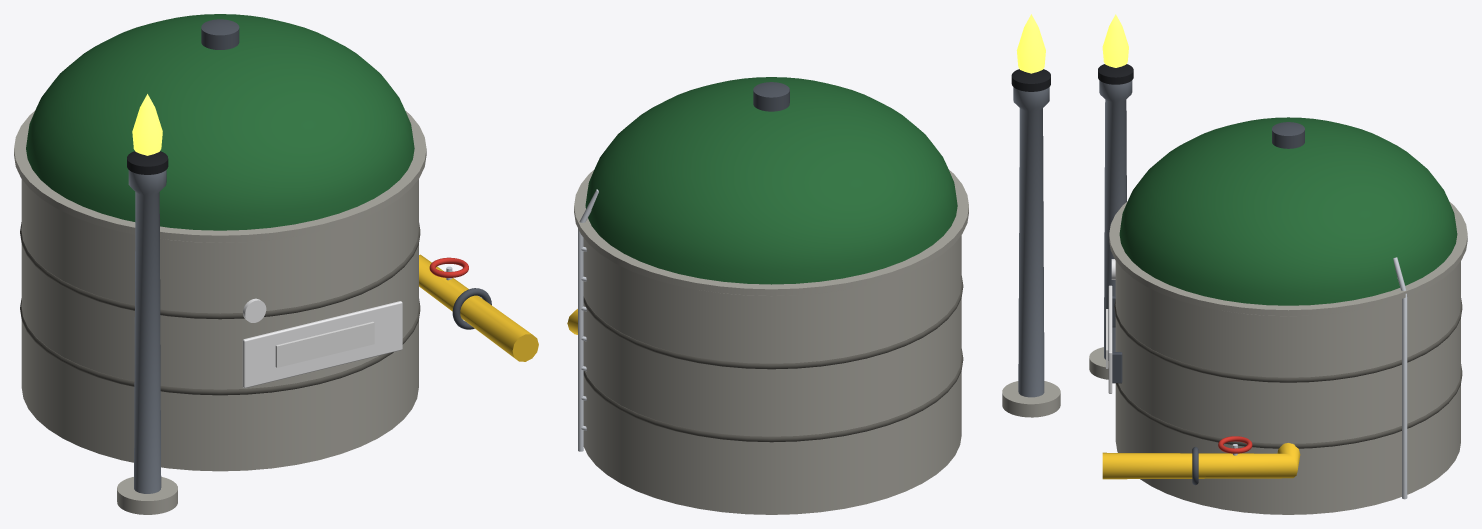
Rendered from Biogas.fbx.
The picture shows the model from 3 angles, left to right: view 1: azimuth 30°, elevation 25°; view 2: azimuth 150°, elevation 25°; view 3: azimuth 270°, elevation 25°; orthographic projection. The views are drawn at different scales.
Parts seen in each view (by area): view 1: Body__Concrete, Body__GreenDark, Body__Steel, Body__White, Body__StoneDark, Body__Yellow, Body__GreenDark!1, Body__MetalDark, FlareFlame__NeonOrange, Body__Black; view 2: Body__Concrete, Body__GreenDark, Body__Steel, Body__StoneDark, Body__Chrome, FlareFlame__NeonOrange, Body__MetalDark, Body__Black; view 3: Body__Concrete, Body__GreenDark, Body__Yellow, Body__Steel, Body__StoneDark, Body__MetalDark, Body__Chrome, FlareFlame__NeonOrange, Body__White, Body__Black.
Part boxes in pixels (x1,y1,x2,y2): Body__Concrete: [14, 111, 426, 514]; Body__GreenDark: [26, 14, 414, 230]; Body__Steel: [128, 170, 166, 493]; Body__White: [242, 298, 402, 388]; Body__StoneDark: [20, 222, 420, 395]; Body__Yellow: [419, 254, 538, 361]; Body__GreenDark!1: [275, 321, 374, 367]; Body__MetalDark: [201, 19, 491, 329]; FlareFlame__NeonOrange: [132, 94, 162, 155]; Body__Black: [127, 151, 168, 174]; Body__Concrete: [574, 170, 1060, 514]; Body__GreenDark: [585, 77, 957, 284]; Body__Steel: [1013, 87, 1049, 397]; Body__StoneDark: [583, 276, 963, 442]; Body__Chrome: [578, 189, 598, 451]; FlareFlame__NeonOrange: [1016, 14, 1045, 73]; Body__MetalDark: [753, 82, 789, 111]; Body__Black: [1011, 69, 1050, 91]; Body__Concrete: [1089, 201, 1467, 514]; Body__GreenDark: [1119, 117, 1457, 305]; Body__Yellow: [1102, 443, 1300, 479]; Body__Steel: [1099, 80, 1132, 360]; Body__StoneDark: [1114, 298, 1462, 448]; Body__MetalDark: [1112, 122, 1304, 485]; Body__Chrome: [1232, 257, 1407, 499]; FlareFlame__NeonOrange: [1102, 14, 1128, 67]; Body__White: [1108, 259, 1115, 393]; Body__Black: [1098, 64, 1133, 84].
Bounding box in the file's own units: 6.29 × 6.4 × 5.7.
